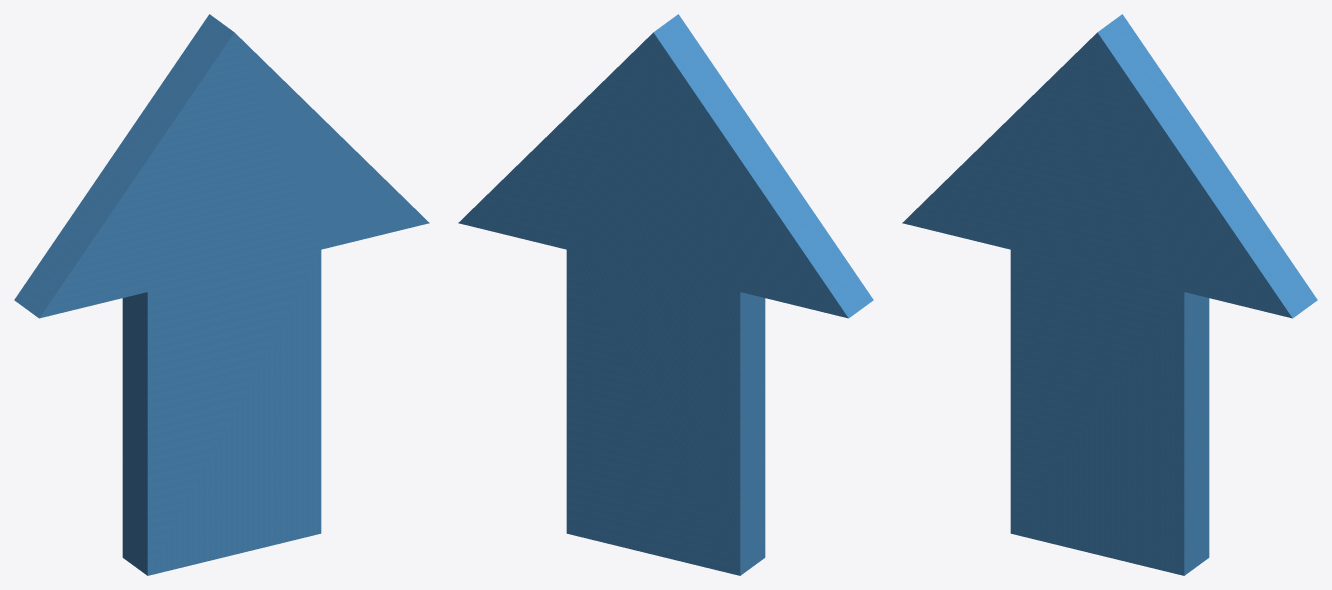
Rendered from Jump_Arrow.glb.
3 views of the same model, side by side, from view 1: azimuth 30°, elevation 25°; view 2: azimuth 150°, elevation 25°; view 3: azimuth 330°, elevation 25° (orthographic).
Parts seen in each view (by area): view 1: Jump_Arrow; view 2: Jump_Arrow; view 3: Jump_Arrow.
Boxes of the visible parts, left/top/right/bottom form: Jump_Arrow: left=14, top=14, right=429, bottom=575; Jump_Arrow: left=458, top=14, right=873, bottom=575; Jump_Arrow: left=902, top=14, right=1317, bottom=575.
Bounding box in the file's own units: 0.36 × 0.46 × 0.04.
Materials: 1 (1 with a texture image).
